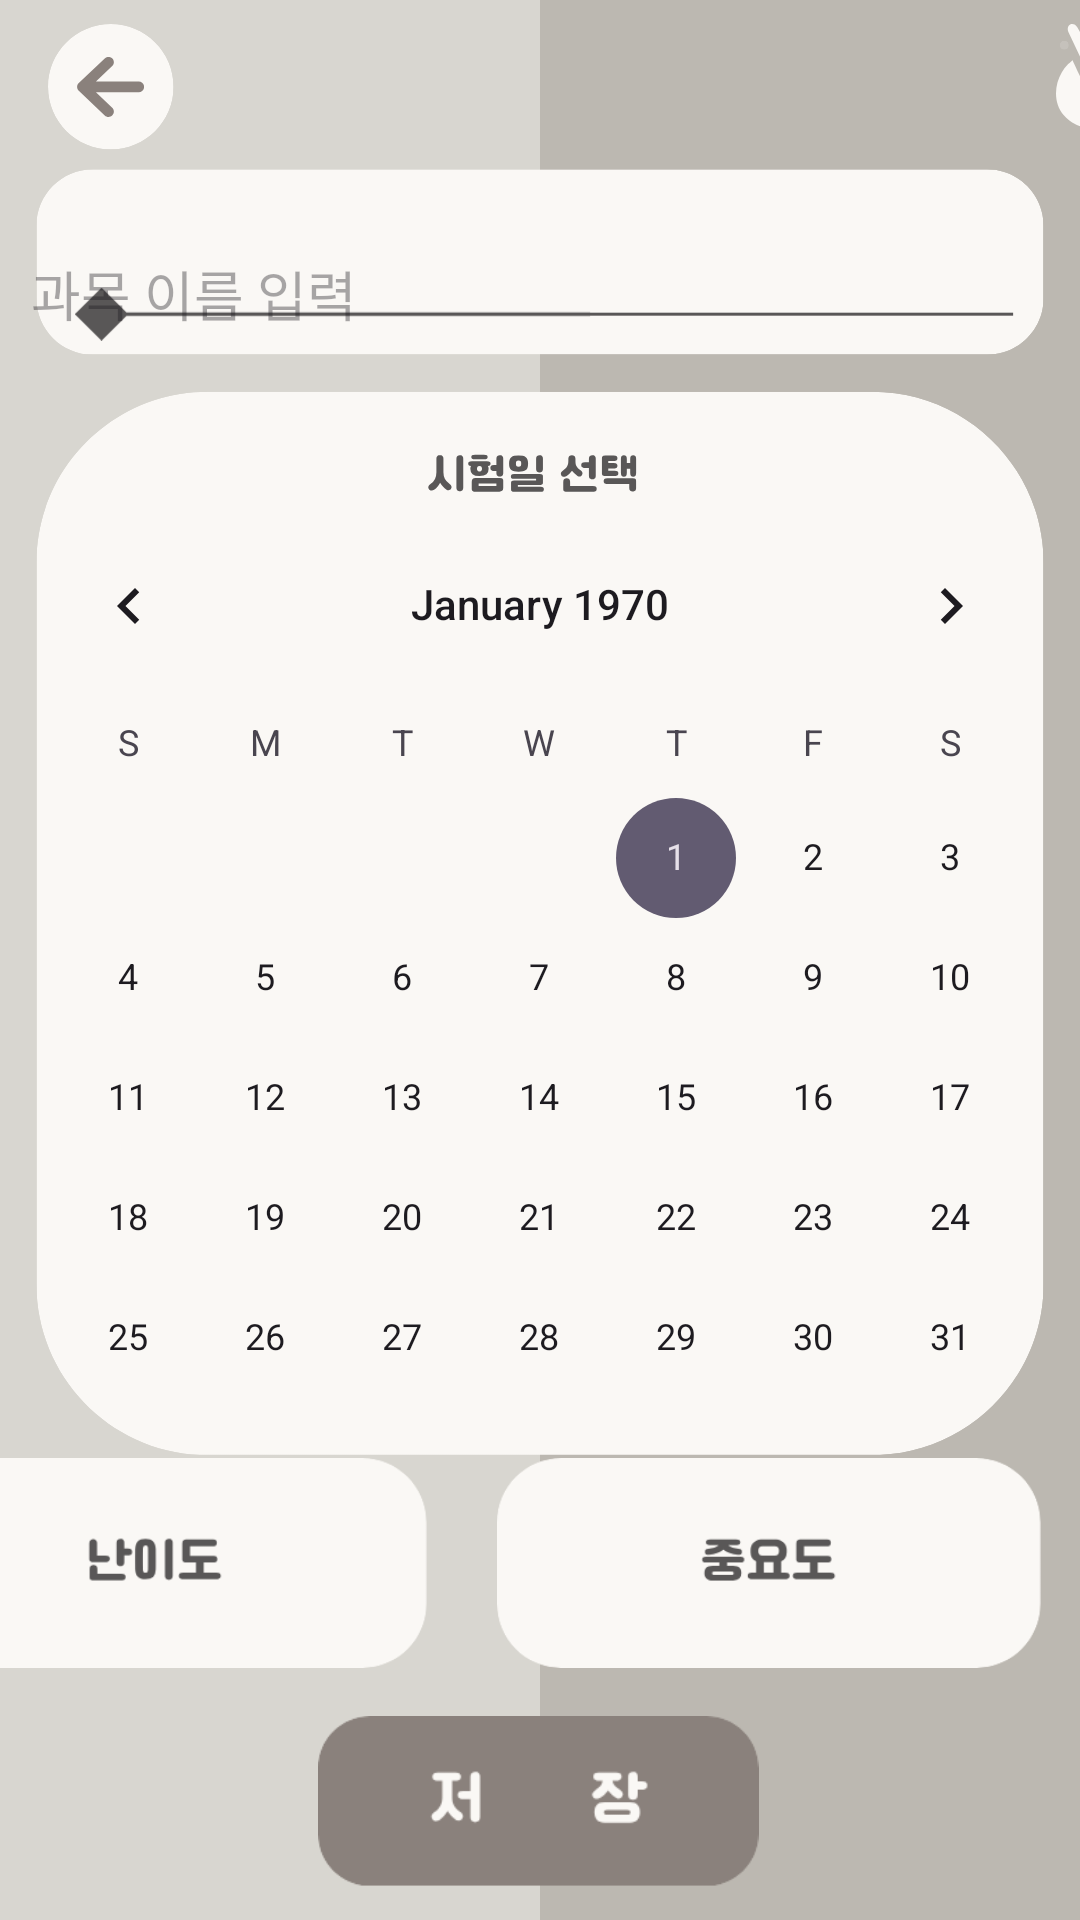

Icons on this 1080px x 1920px Android screen, each with its box as (x1, y1, x2, y2):
back: (48, 24, 173, 149)
